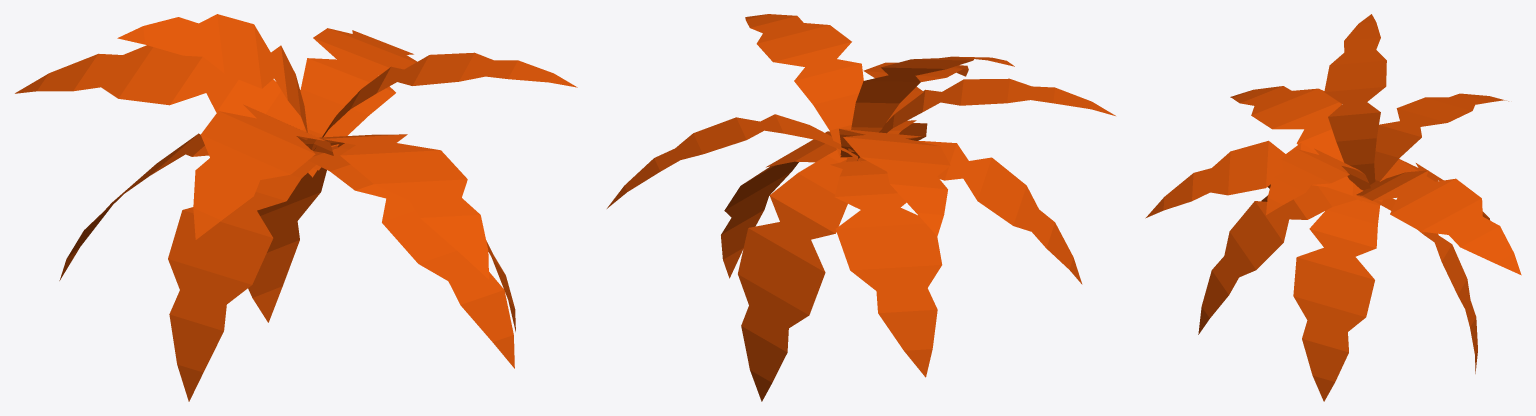
The model's file is tree-autumn-leaves-035.glb.
3 renders of one model, left to right at view 1: azimuth 30°, elevation 25°; view 2: azimuth 150°, elevation 25°; view 3: azimuth 270°, elevation 25°, orthographic. The views are drawn at different scales.
Parts seen in each view (by area): view 1: Plane.026_373; view 2: Plane.026_373; view 3: Plane.026_373.
Boxes of the visible parts, x1,y1,x2,y2 form: Plane.026_373: (15,14,577,401); Plane.026_373: (607,14,1115,401); Plane.026_373: (1145,14,1521,401).
Bounding box in the file's own units: 1.43 × 1.33 × 1.59.
